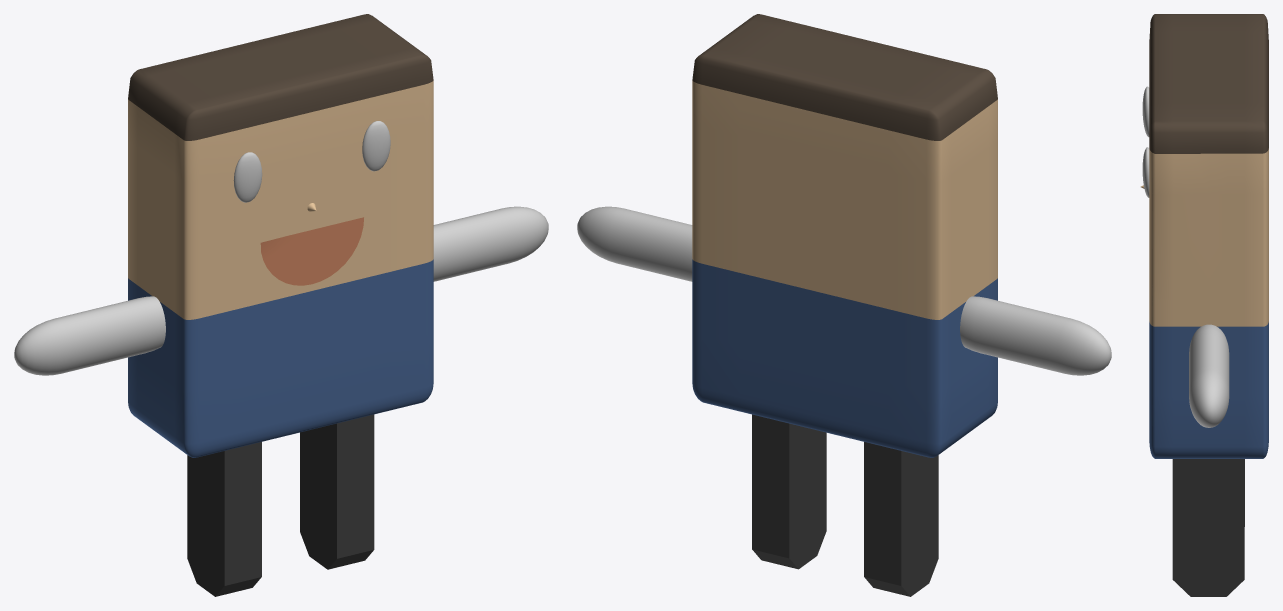
The model's file is Boy.obj.
3 renders of one model, left to right at view 1: azimuth 30°, elevation 25°; view 2: azimuth 150°, elevation 25°; view 3: azimuth 270°, elevation 25°, orthographic. The views are drawn at different scales.
Visible parts, largest first — view 1: Boy; view 2: Boy; view 3: Boy.
Boxes of the visible parts, bbox=[...] form: Boy: bbox=[14, 14, 548, 596]; Boy: bbox=[577, 14, 1111, 596]; Boy: bbox=[1140, 14, 1268, 596].
Size of the model in its own units: 168 by 154 by 36.45.
